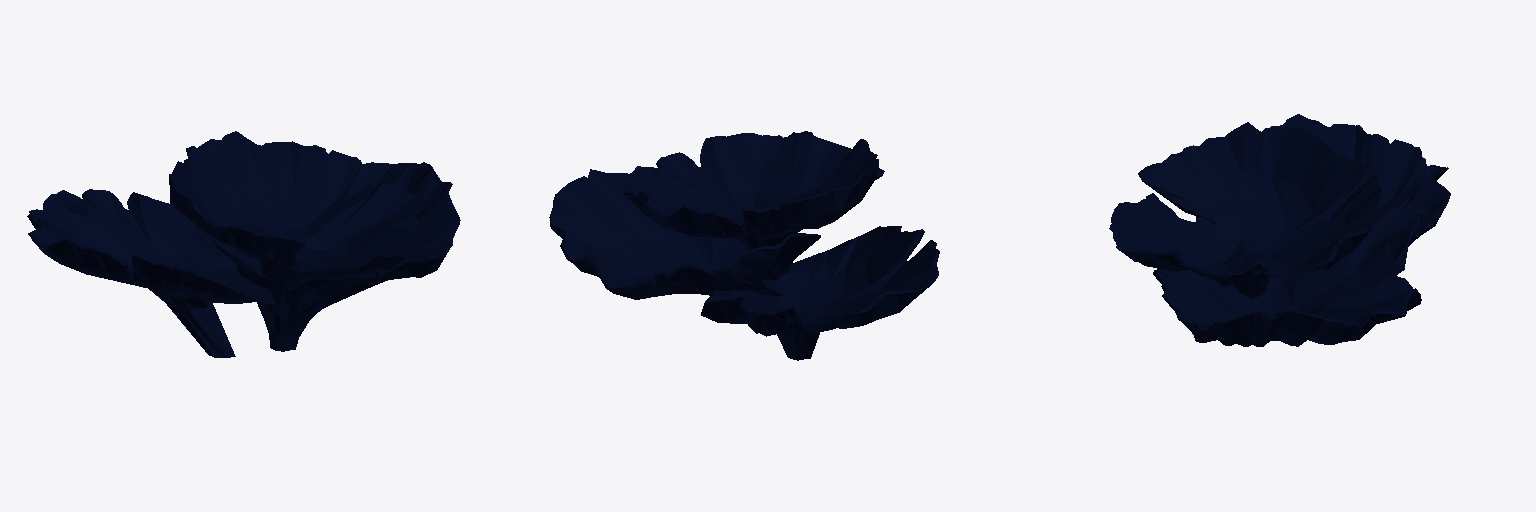
The model's file is Object_MontiporaCoral1.obj.
The picture shows the model from 3 angles: view 1: azimuth 30°, elevation 25°; view 2: azimuth 150°, elevation 25°; view 3: azimuth 270°, elevation 25°; orthographic projection.
Visible parts, largest first — view 1: MontiporaCoral1; view 2: MontiporaCoral1; view 3: MontiporaCoral1.
Boxes of the visible parts, x1=… form: MontiporaCoral1: x1=27, y1=131, x2=460, y2=357; MontiporaCoral1: x1=549, y1=131, x2=939, y2=360; MontiporaCoral1: x1=1109, y1=114, x2=1450, y2=346.
Size of the model in its own units: 1.77 by 0.816 by 1.37.